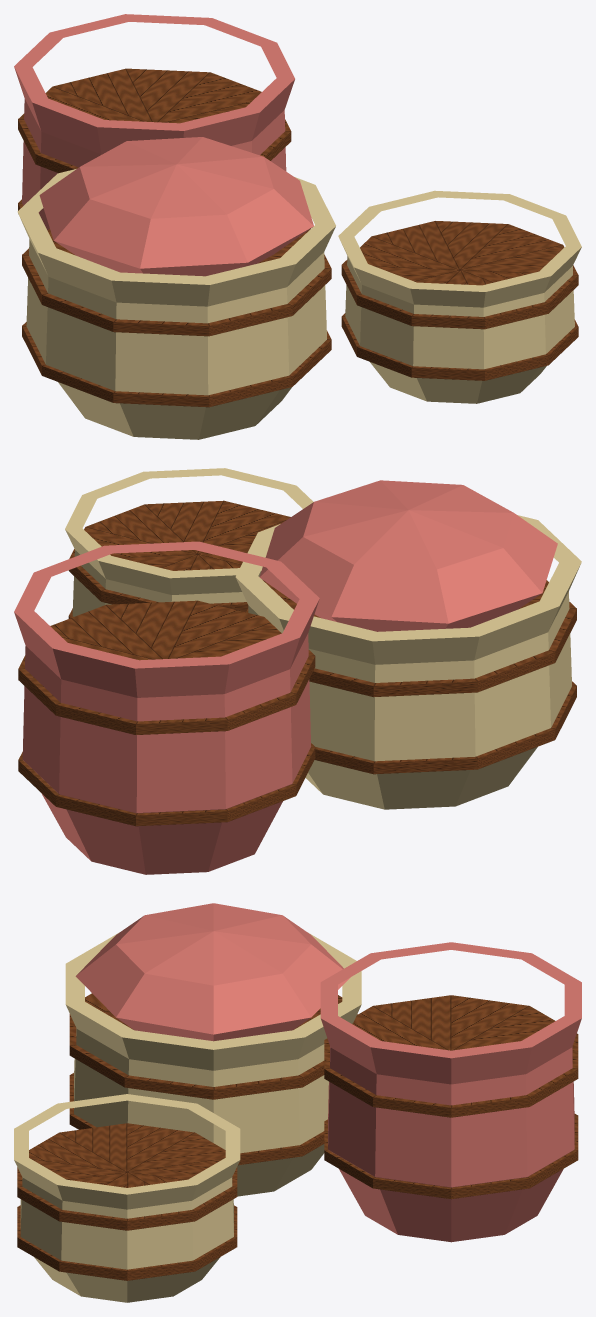
File: andean-terraces-and-stone-village-woven-basket-set-6a2cac9e__38265.glb
The picture shows the model from 3 angles, top to bottom: view 1: azimuth 30°, elevation 25°; view 2: azimuth 150°, elevation 25°; view 3: azimuth 270°, elevation 25°; orthographic projection. The views are drawn at different scales.
Parts seen in each view (by area): view 1: woven-basket-set-thatch, woven-basket-set-cloth, woven-basket-set-timber; view 2: woven-basket-set-cloth, woven-basket-set-thatch, woven-basket-set-timber; view 3: woven-basket-set-cloth, woven-basket-set-thatch, woven-basket-set-timber.
Boxes of the visible parts, bbox=[...] form: woven-basket-set-thatch: bbox=[17, 169, 581, 439]; woven-basket-set-cloth: bbox=[14, 14, 313, 276]; woven-basket-set-timber: bbox=[18, 68, 578, 407]; woven-basket-set-cloth: bbox=[14, 480, 557, 874]; woven-basket-set-thatch: bbox=[65, 468, 581, 809]; woven-basket-set-timber: bbox=[18, 500, 576, 826]; woven-basket-set-cloth: bbox=[75, 903, 581, 1242]; woven-basket-set-thatch: bbox=[14, 933, 361, 1302]; woven-basket-set-timber: bbox=[17, 993, 578, 1280].
Bounding box in the file's own units: 1.26 × 0.5751 × 1.31.
3 materials, 1 textured.
